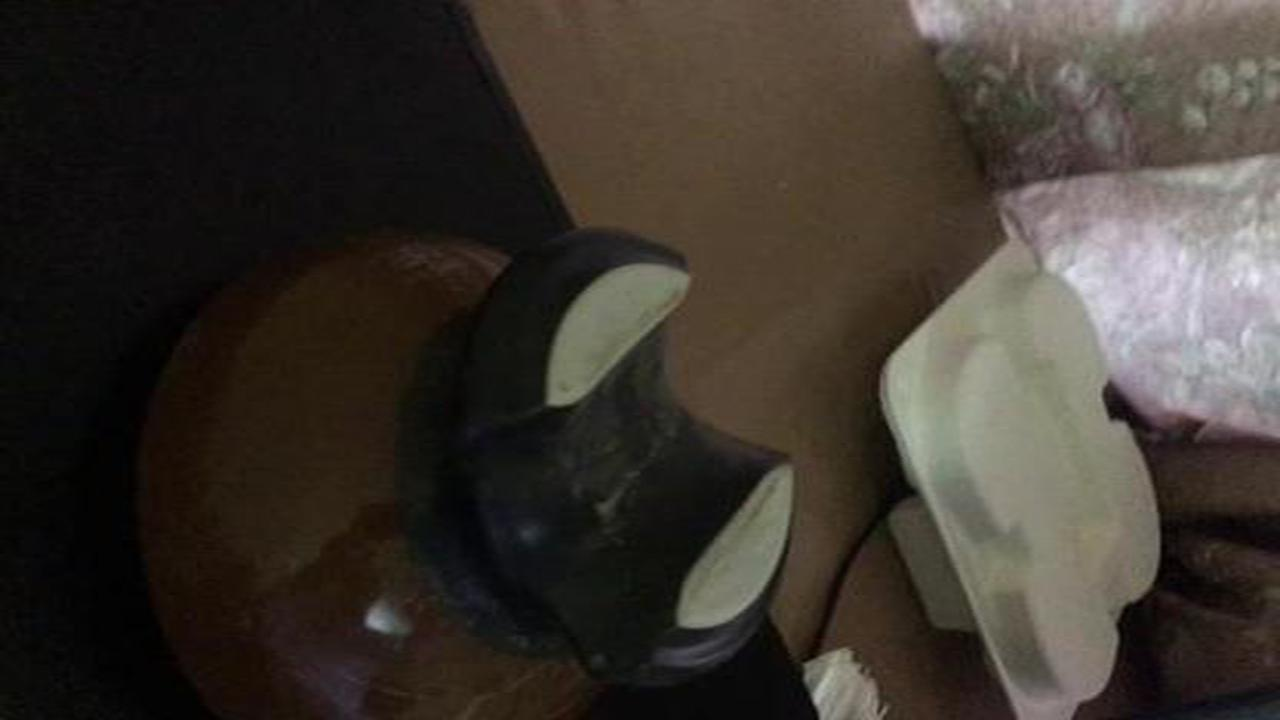insulator_pin: (121, 219, 819, 720)
